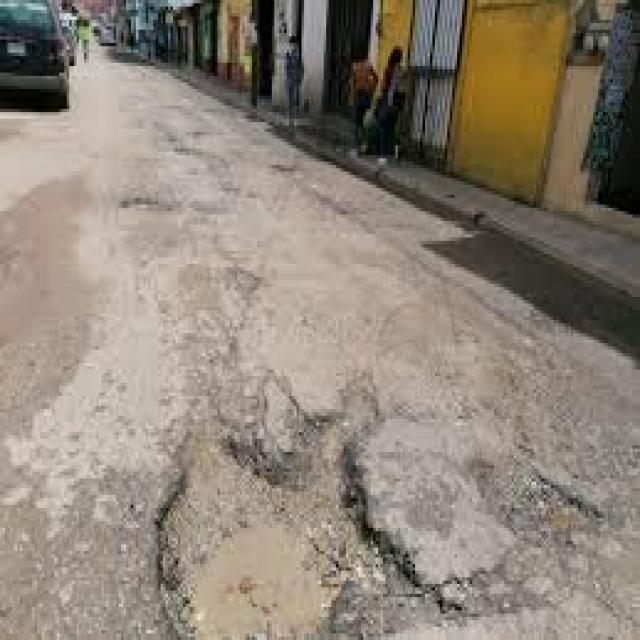Pothole: (109, 363, 442, 640), (99, 135, 257, 238)
